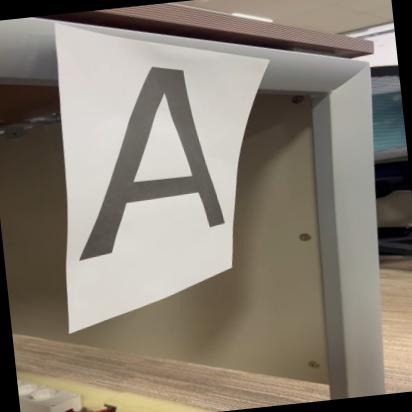seat: (56, 54, 244, 268)
